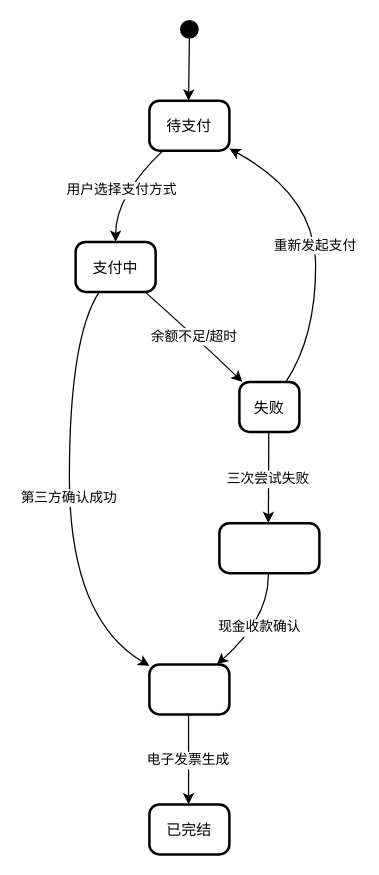
Some shapes in this 379 by 875 pixel diagram are drawn without their labels. Each missing label, with the box of its shape:
人工处理: (218, 521, 320, 574)
已支付: (148, 662, 230, 715)
